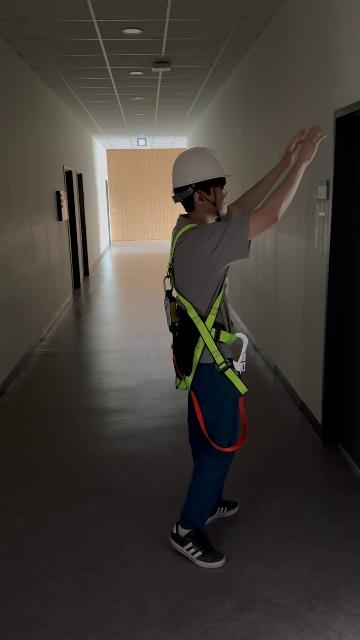helmet_worn: (169, 145, 232, 189)
shoe_not_worn: (169, 520, 225, 567), (205, 499, 239, 525)
vest_worn: (165, 225, 250, 448)
